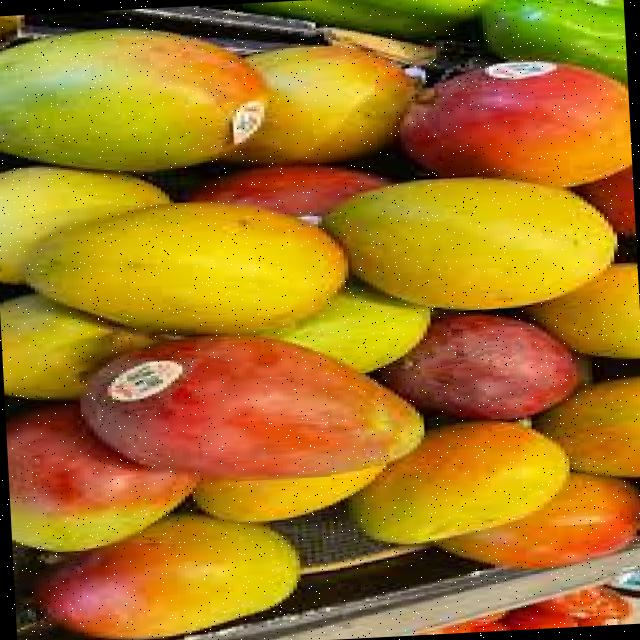mango: (75, 338, 423, 481)
